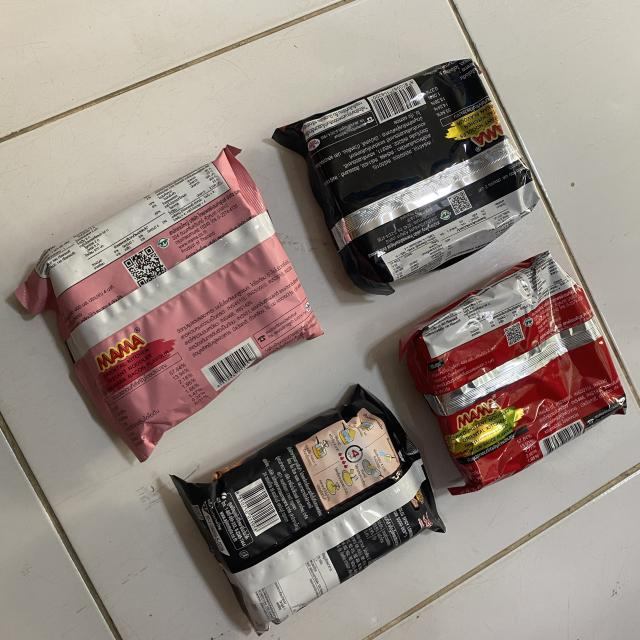plastik: (16, 146, 322, 460), (171, 385, 445, 634), (272, 59, 539, 294), (400, 251, 626, 495)
